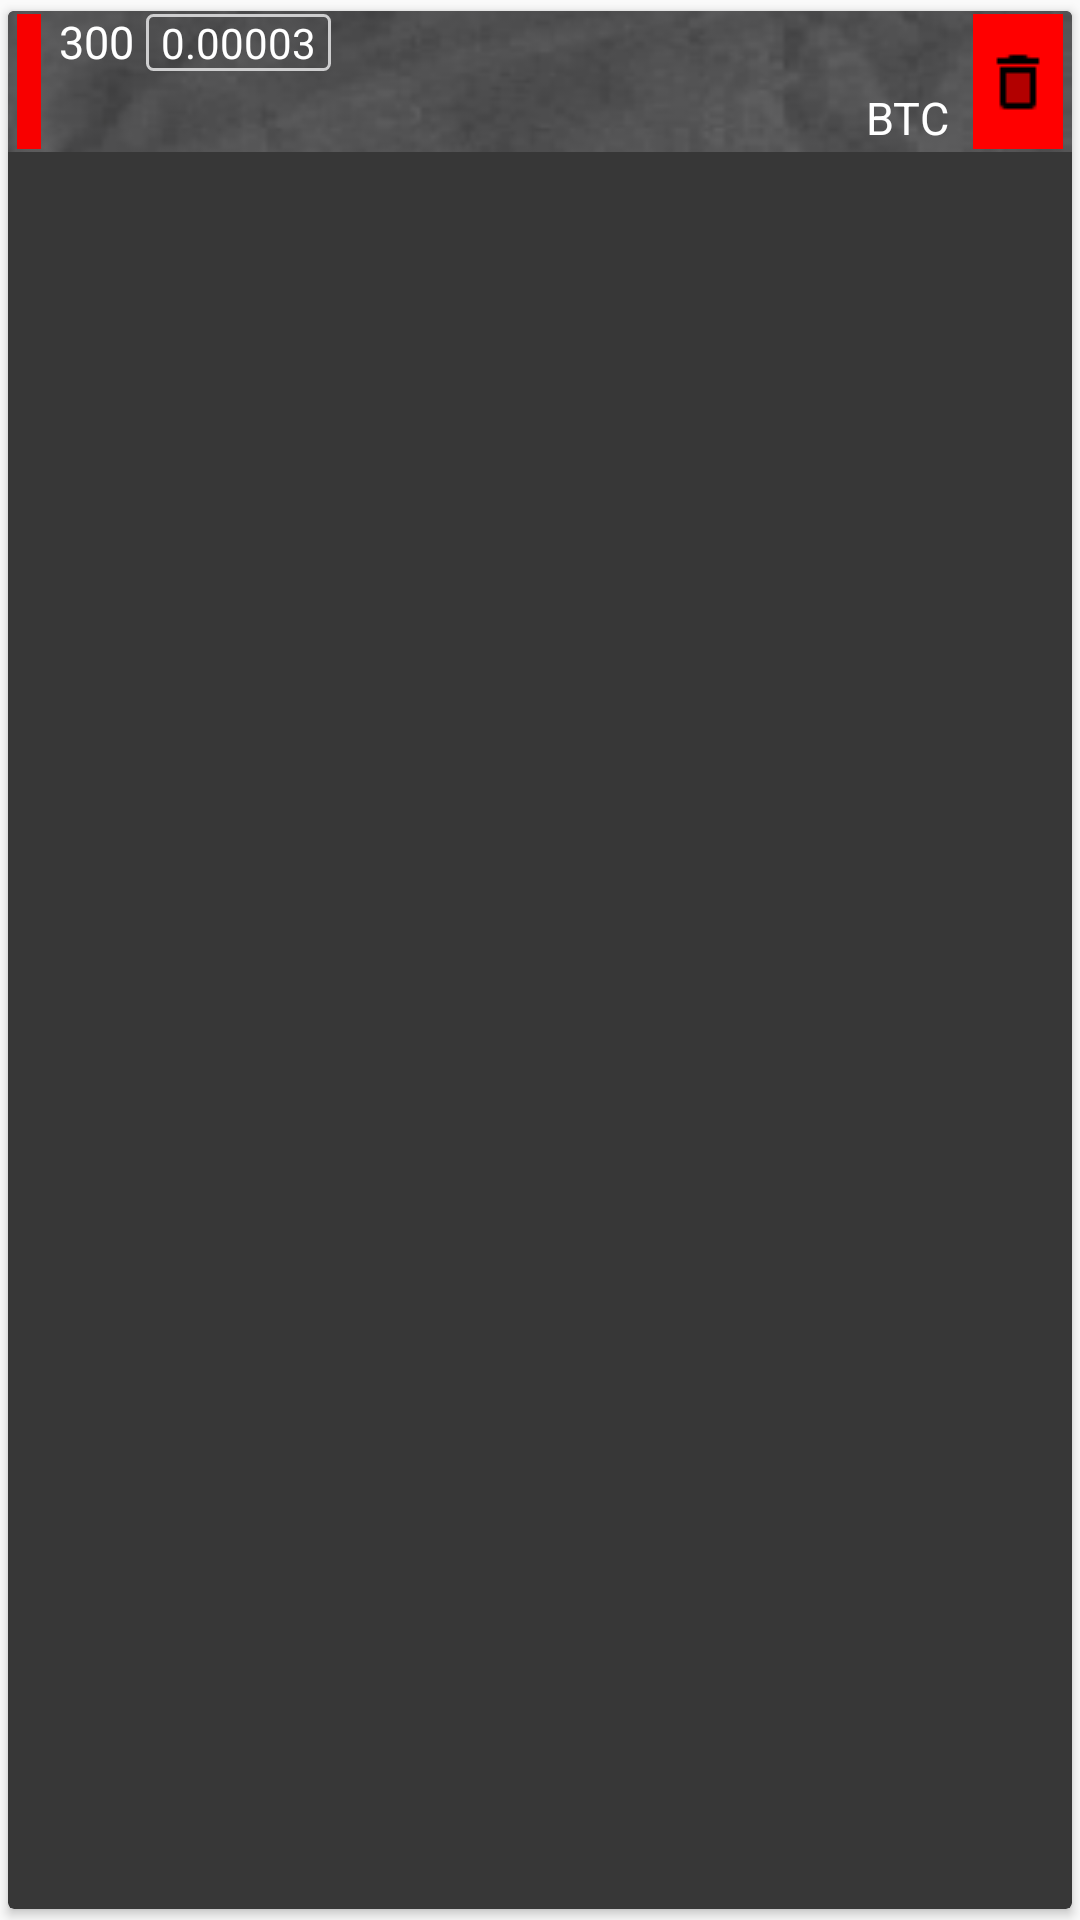

Locate icon controls on the screen. Image size 1080w x 1920h, boxes as BBox(x1, y1, x2, y2).
delete: BBox(973, 14, 1063, 149)
